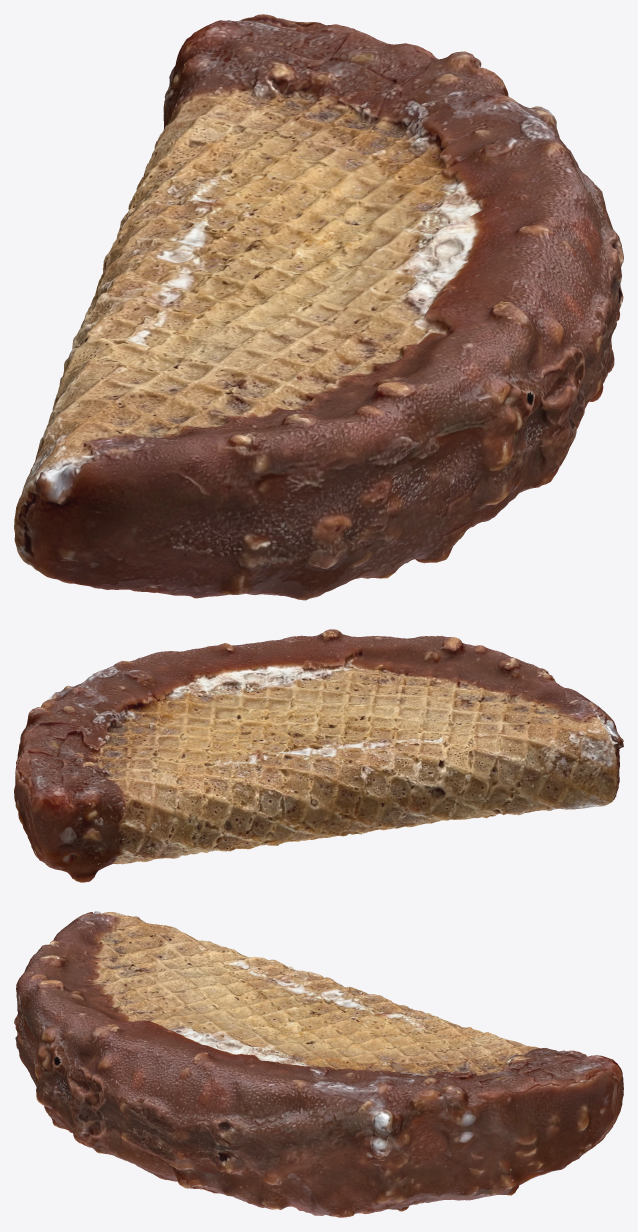
File: worlds_last_choco_taco.glb
3 renders of one model, top to bottom at view 1: azimuth 30°, elevation 25°; view 2: azimuth 150°, elevation 25°; view 3: azimuth 270°, elevation 25°, orthographic. The views are drawn at different scales.
Parts seen in each view (by area): view 1: Object_2; view 2: Object_2; view 3: Object_2.
Part boxes in pixels (x1,y1,x2,y2): Object_2: [14, 14, 623, 600]; Object_2: [14, 629, 623, 882]; Object_2: [14, 911, 623, 1217].
Bounding box in the file's own units: 721 × 205 × 778.
Materials: 1 (1 with a texture image).
